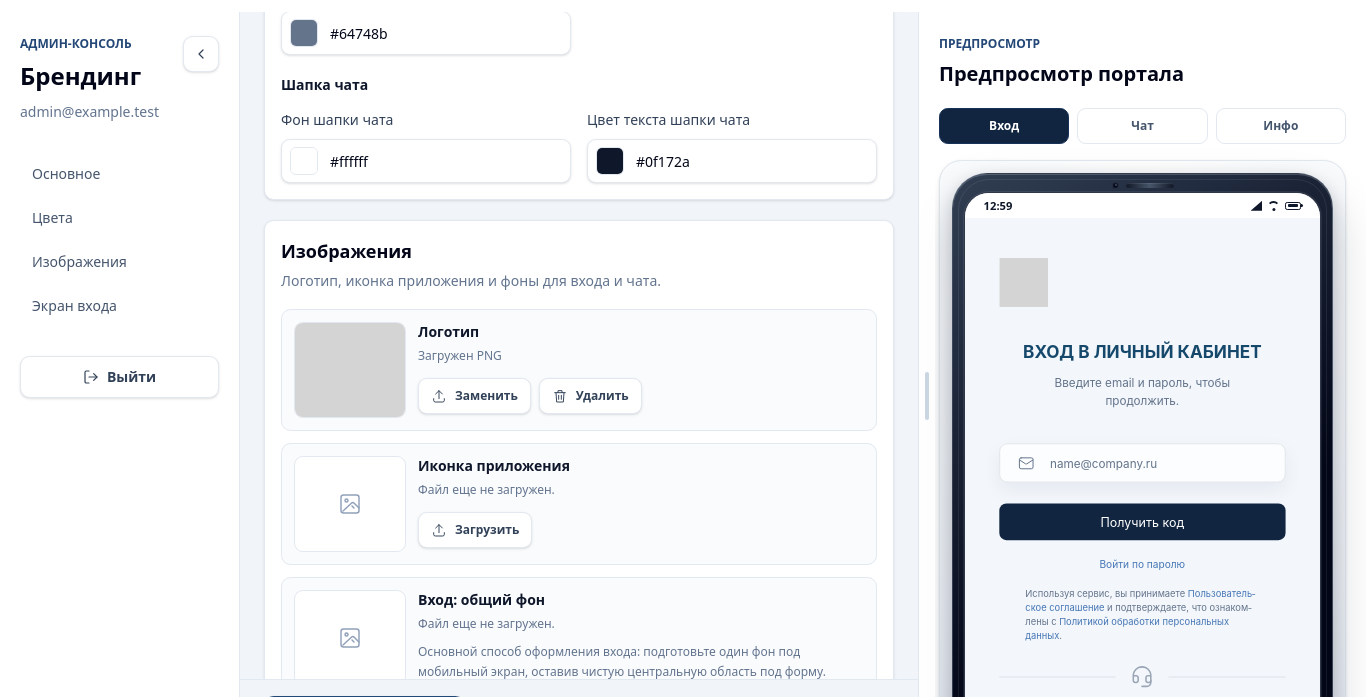
Scenario: AdminBrandingPage › deletes a branding asset and refreshes the slot
The width and height of the screenshot is (1366, 697).
(page scrolled)
Click the button with aria-label "Удалить логотип". click: click(590, 396)
box: [539, 378, 642, 414]
(page scrolled)
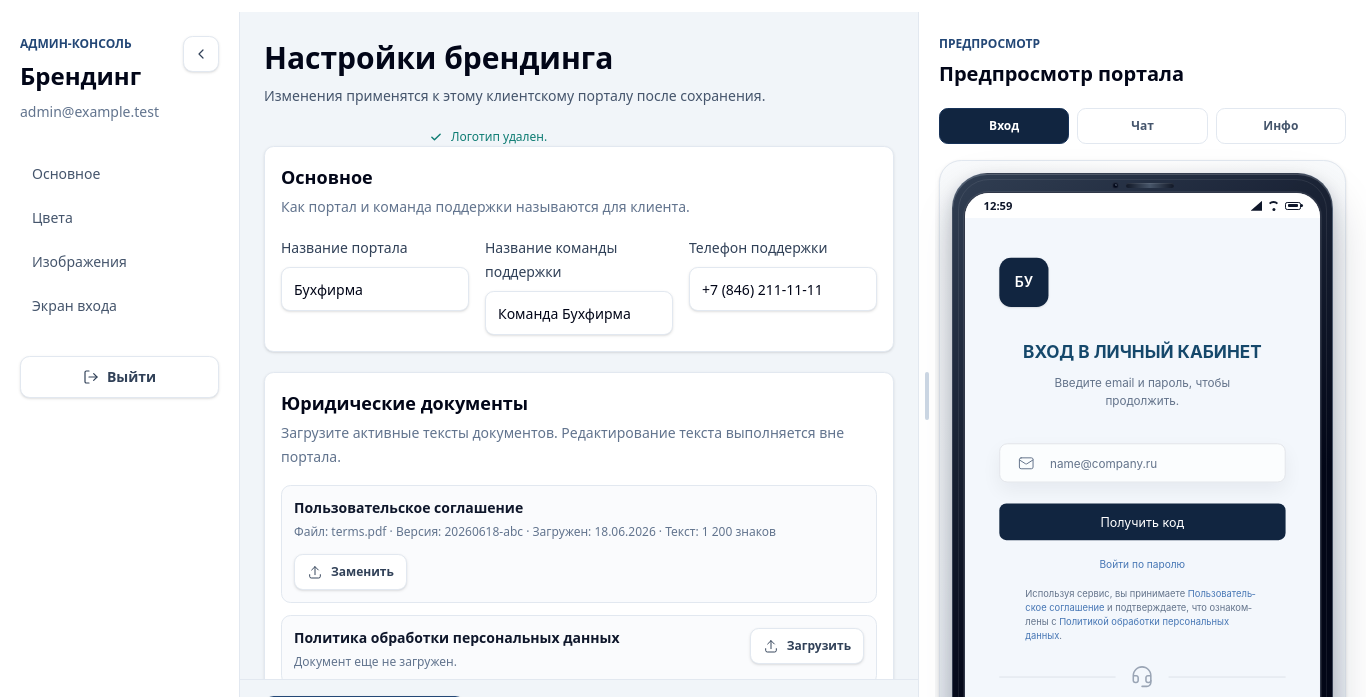
Expected: the message reads "Логотип удален.", [451, 128, 547, 145]
